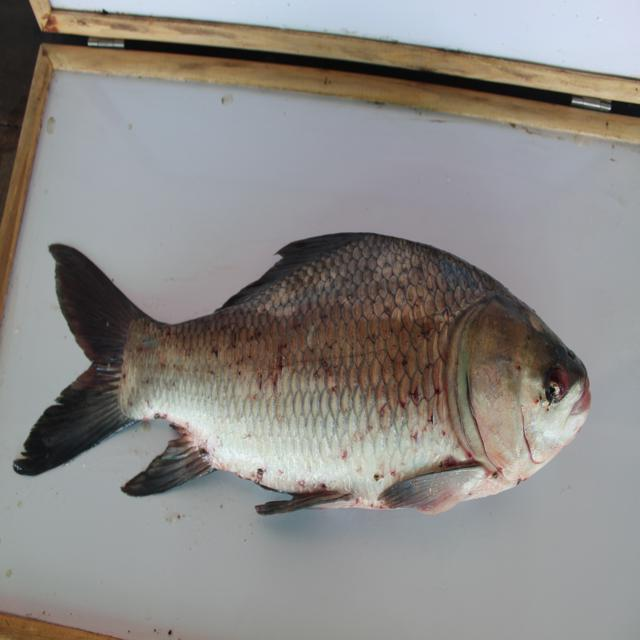Catla: (11, 219, 595, 542)
